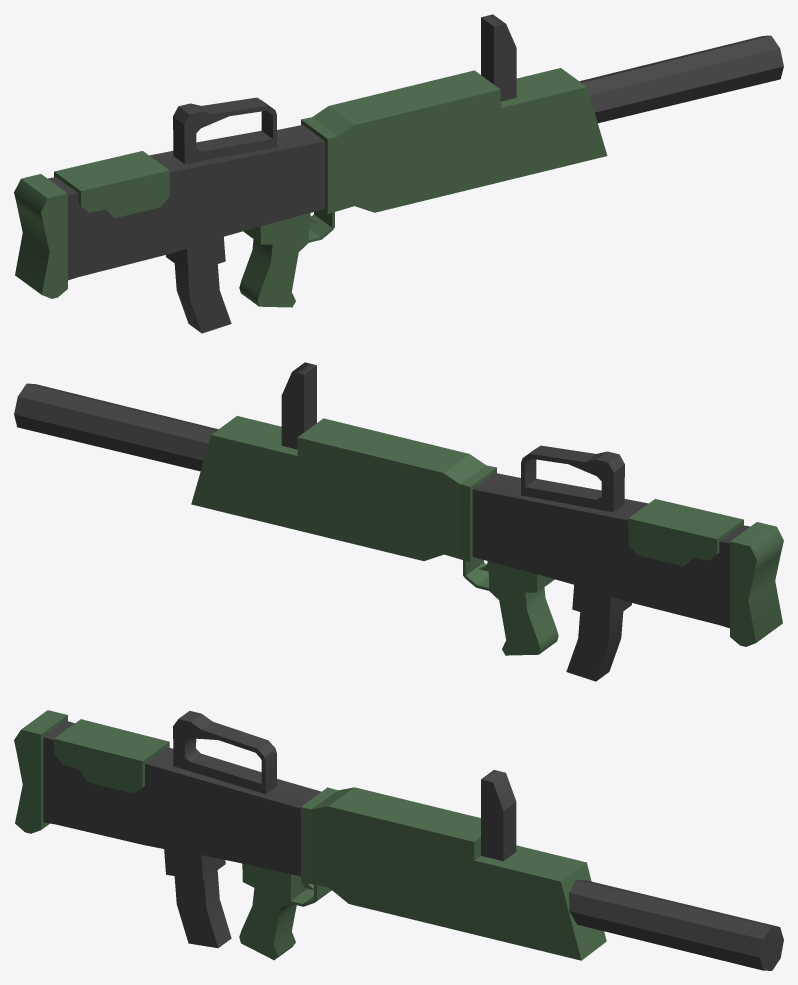
Rendered from assault_rifle.fbx.
The picture shows the model from 3 angles, top to bottom: view 1: azimuth 30°, elevation 25°; view 2: azimuth 150°, elevation 25°; view 3: azimuth 330°, elevation 25°; orthographic projection.
Parts seen in each view (by area): view 1: pCylinder2; view 2: pCylinder2; view 3: pCylinder2.
Part boxes in pixels (x1,y1,x2,y2): pCylinder2: [14, 14, 783, 333]; pCylinder2: [14, 362, 783, 681]; pCylinder2: [14, 710, 783, 970].
Size of the model in its own units: 20.07 by 6.06 by 1.25.
